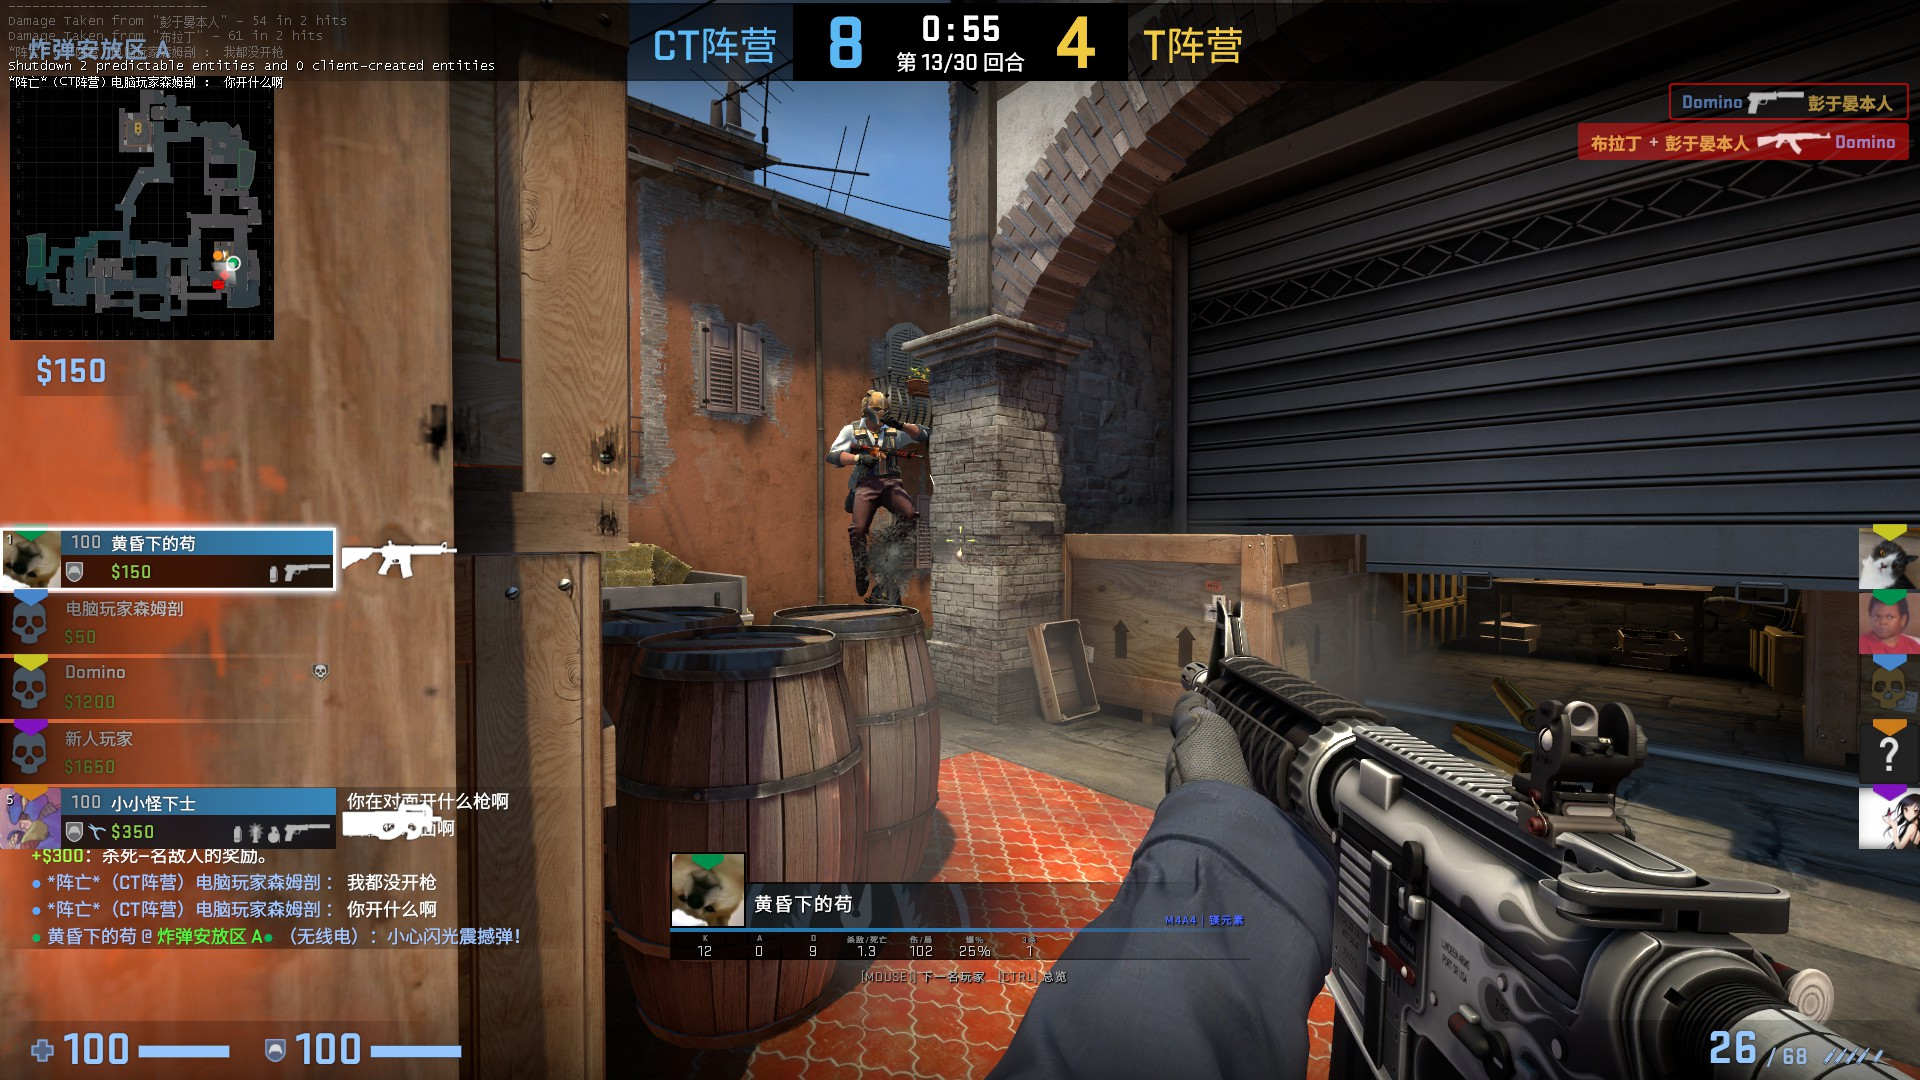head: (858, 387, 892, 430), (869, 562, 886, 585)
